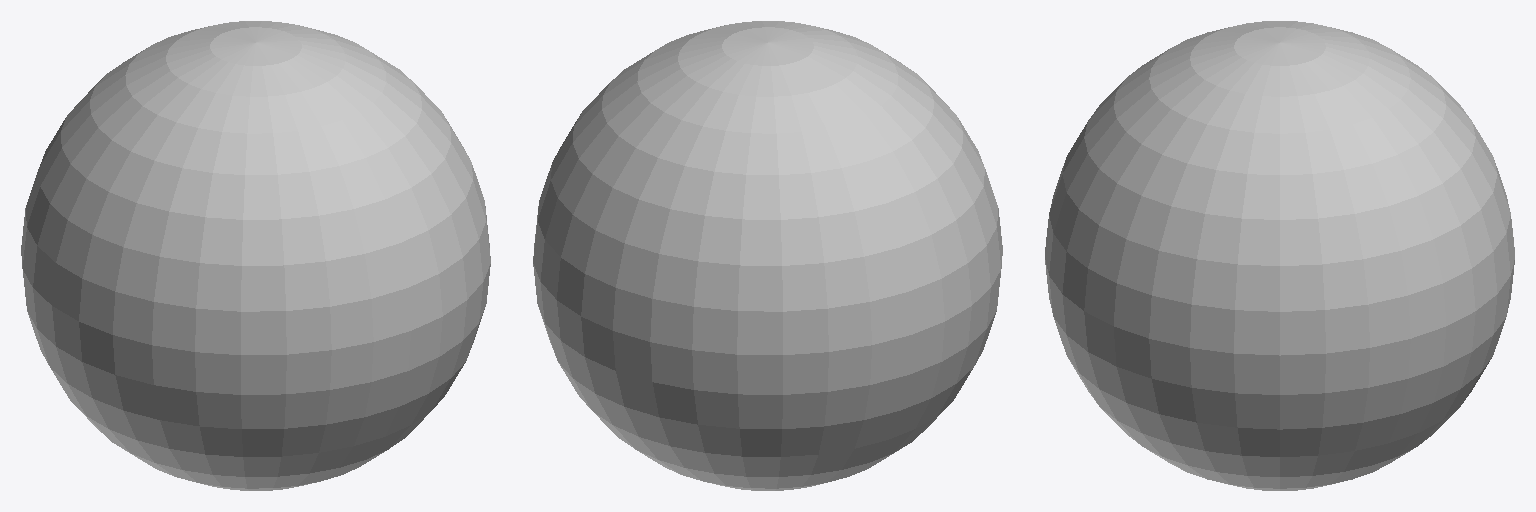
Rendered from jupiter.obj.
3 renders of one model, left to right at view 1: azimuth 30°, elevation 25°; view 2: azimuth 150°, elevation 25°; view 3: azimuth 270°, elevation 25°, orthographic.
Visible parts, largest first — view 1: Jupiter; view 2: Jupiter; view 3: Jupiter.
Boxes of the visible parts, x1=… form: Jupiter: x1=21, y1=21, x2=490, y2=490; Jupiter: x1=533, y1=21, x2=1002, y2=490; Jupiter: x1=1045, y1=21, x2=1514, y2=490.
Size of the model in its own units: 6 by 6 by 6.